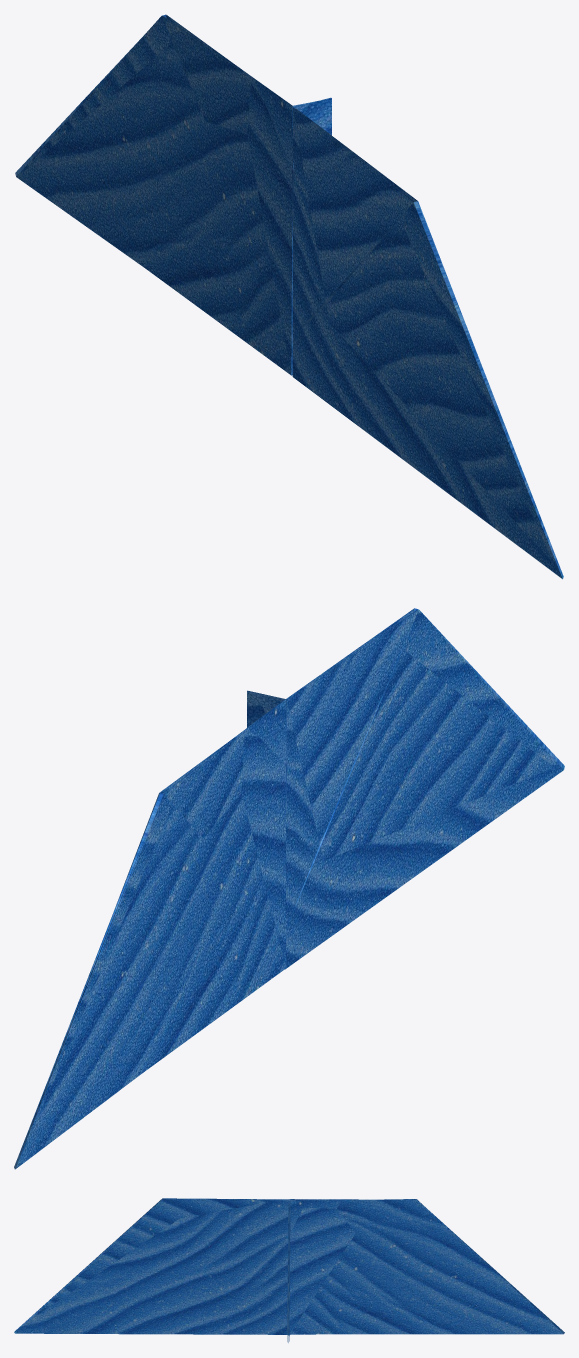
3 views of the same model, one above another, from view 1: azimuth 30°, elevation 25°; view 2: azimuth 150°, elevation 25°; view 3: azimuth 270°, elevation 25° (orthographic). The views are drawn at different scales.
Visible parts, largest first — view 1: Origami_Model_12.001; view 2: Origami_Model_12.001; view 3: Origami_Model_12.001.
Part boxes in pixels (left/top/right/bottom): Origami_Model_12.001: left=15, top=14, right=563, bottom=579; Origami_Model_12.001: left=14, top=608, right=564, bottom=1169; Origami_Model_12.001: left=14, top=1198, right=564, bottom=1342.
Bounding box in the file's own units: 0.0125 × 0.0716 × 0.2634.
Materials: 1 (1 with a texture image).
